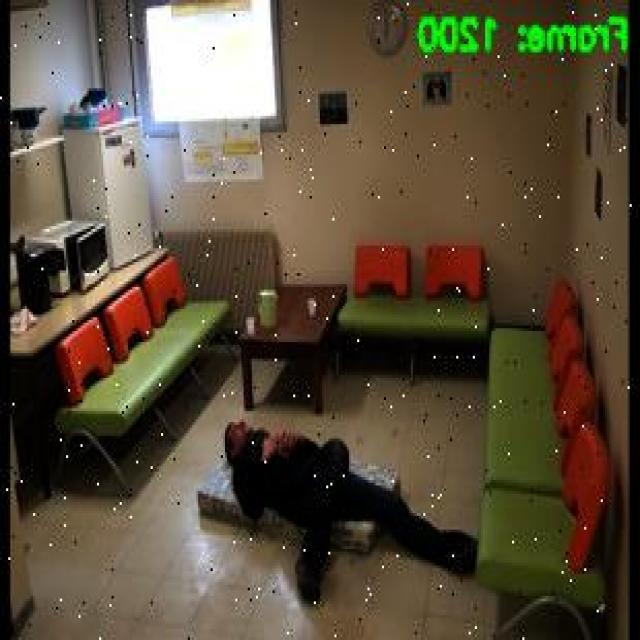fall: (221, 418, 479, 603)
